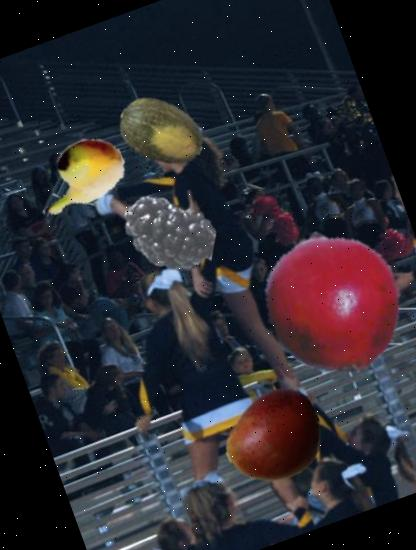Banana: (17, 112, 140, 236)
Mango: (210, 374, 338, 501)
Melon: (103, 78, 216, 191)
Mulberry: (109, 172, 229, 292)
Pomegranate: (237, 208, 416, 398)
